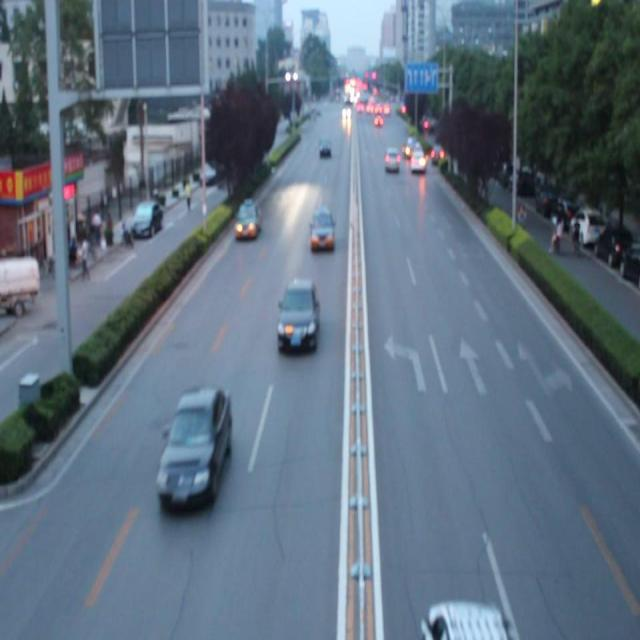car: (156, 384, 232, 506), (275, 276, 321, 350), (308, 205, 335, 251), (234, 200, 261, 241)
